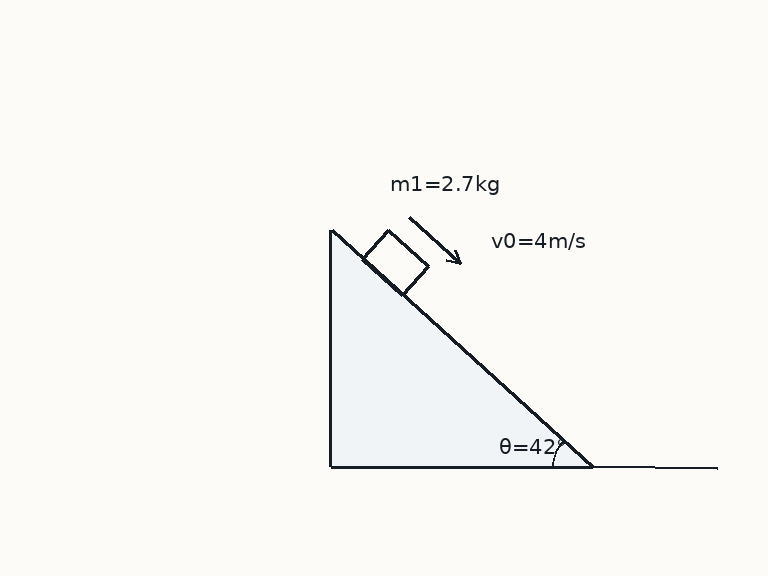block: (360, 228, 430, 297)
ramp: (329, 229, 595, 469)
